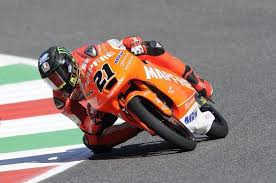helmet: (34, 43, 78, 97)
